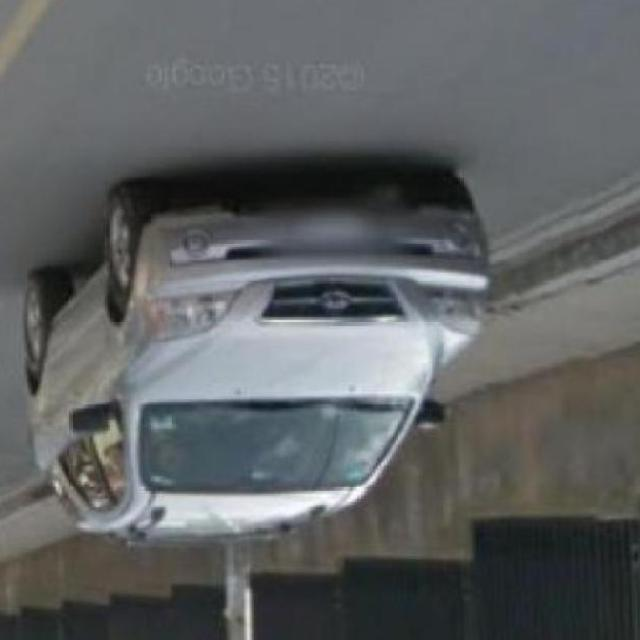car: (18, 153, 492, 548)
